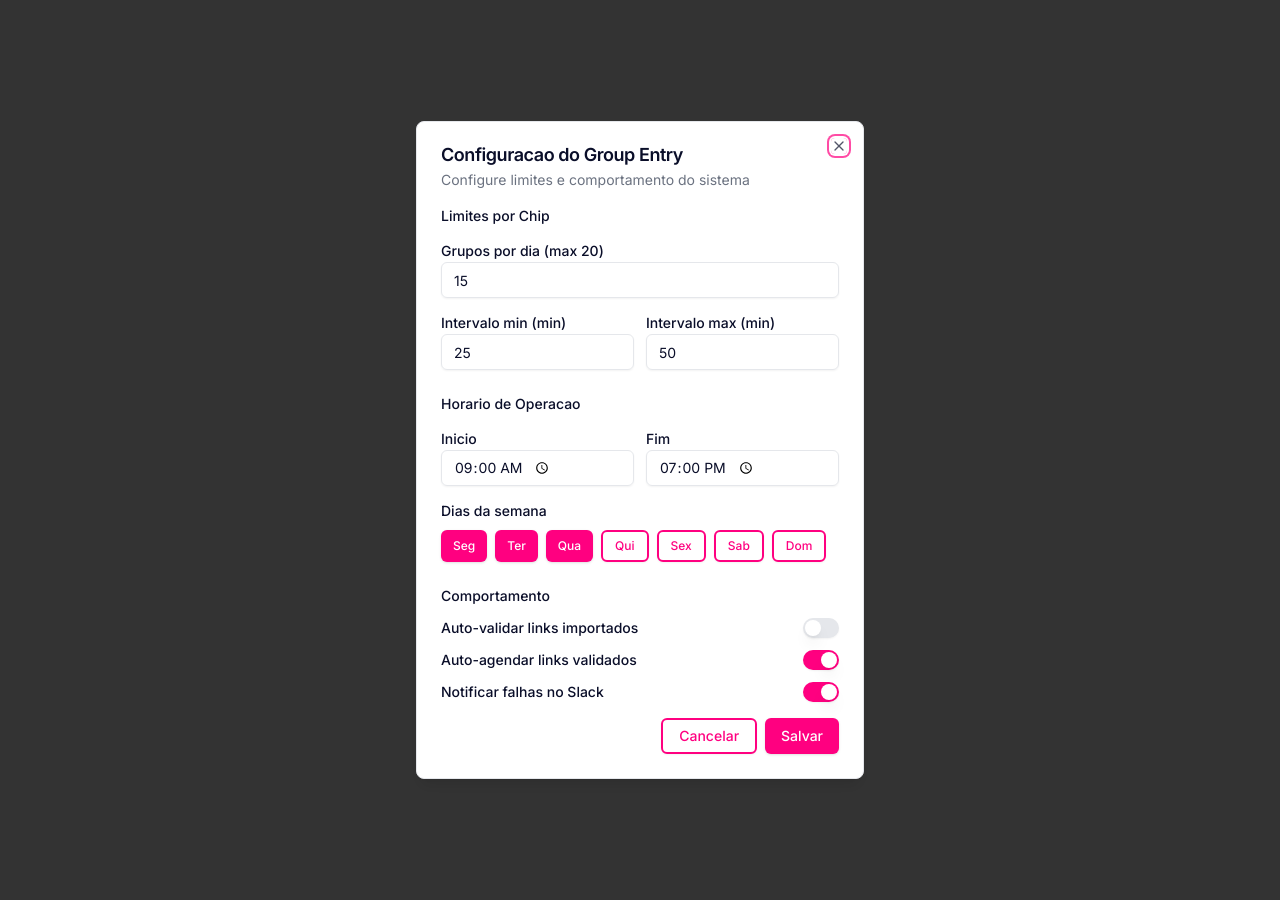
Test: GroupEntryConfigModal › shows loading state while saving
Step 1. Click the button "Salvar" → (802,736), box [765,718,839,754]
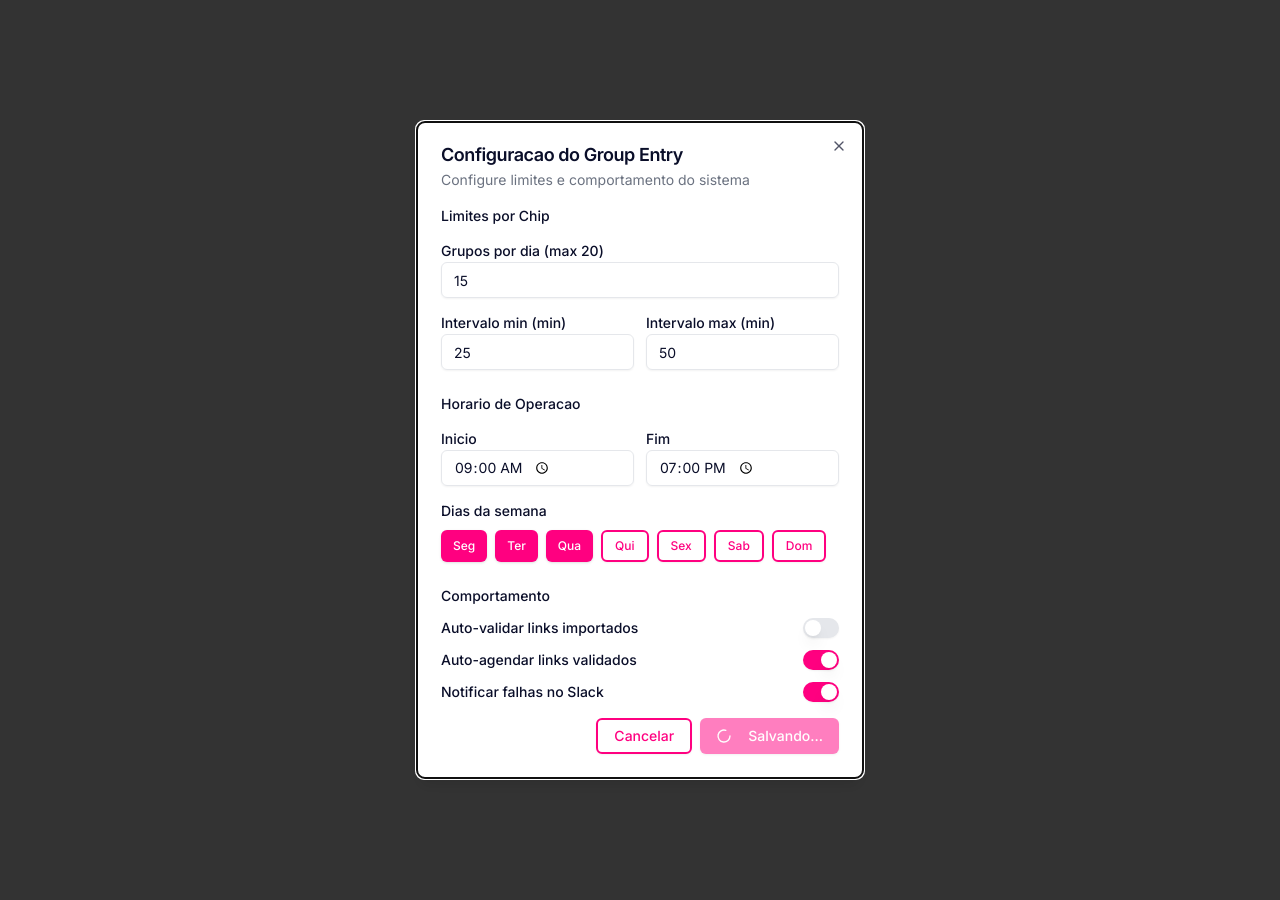
Now the button "Salvando..." is shown, box [700,718,839,754]
